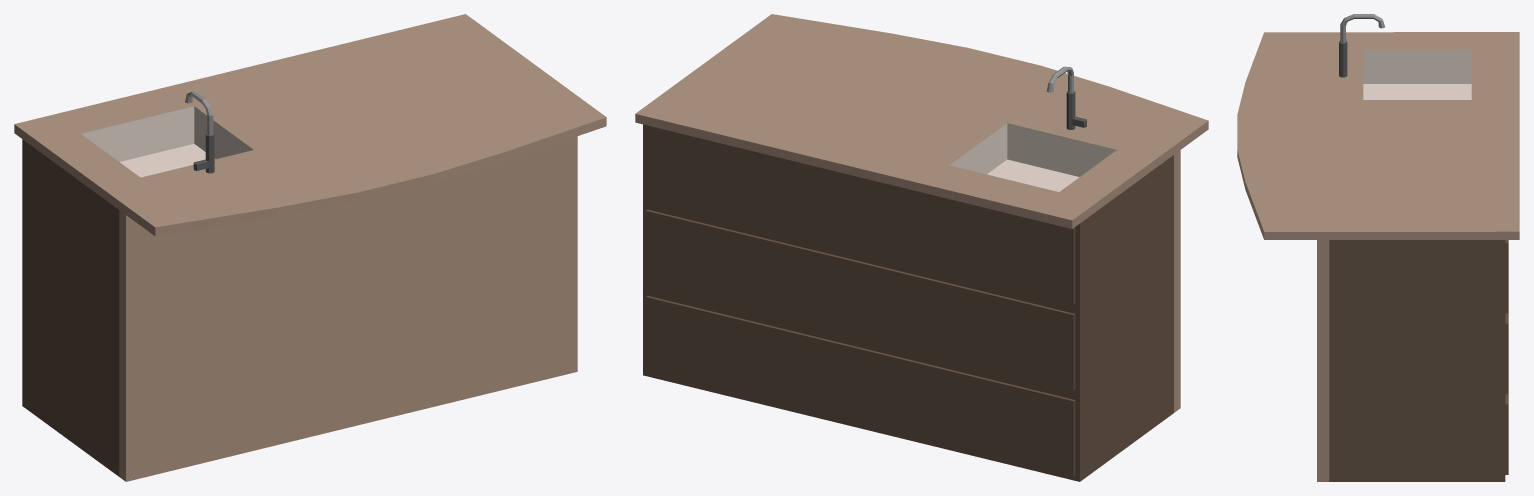
Rendered from Kitchen_set_9.fbx.
3 views of the same model, side by side, from view 1: azimuth 30°, elevation 25°; view 2: azimuth 150°, elevation 25°; view 3: azimuth 270°, elevation 25° (orthographic). The views are drawn at different scales.
Parts seen in each view (by area): view 1: Kitchen_set_9; view 2: Kitchen_set_9; view 3: Kitchen_set_9.
Boxes of the visible parts, x1,y1,x2,y2 form: Kitchen_set_9: [14, 14, 606, 481]; Kitchen_set_9: [635, 14, 1208, 481]; Kitchen_set_9: [1237, 14, 1519, 481].
Size of the model in its own units: 189 by 113 by 137.
